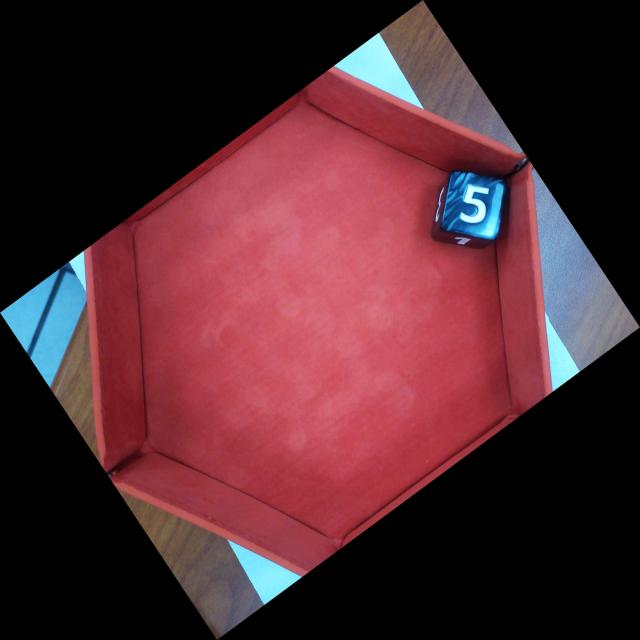dice: (440, 168, 504, 243)
